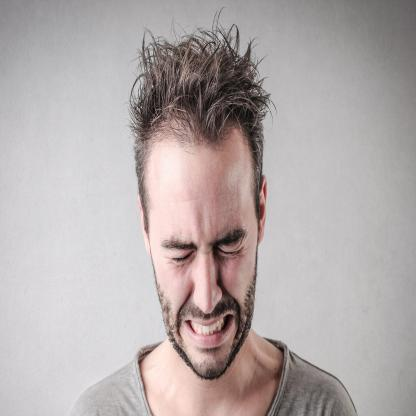pain: (154, 221, 254, 274)
